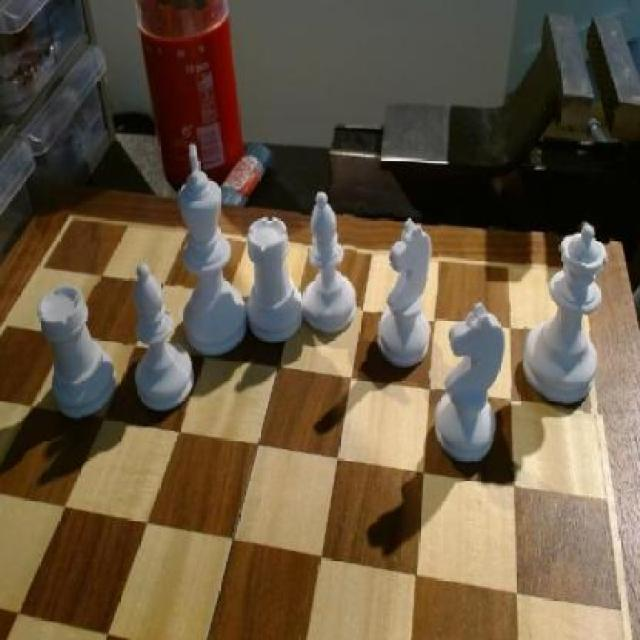black-rook: (128, 258, 198, 412), (300, 186, 358, 335)
white-bishop: (176, 140, 248, 361)
white-king: (436, 305, 516, 473), (376, 210, 438, 378)
white-pawn: (522, 220, 608, 414)
white-queen: (37, 286, 125, 426), (245, 208, 306, 348)
